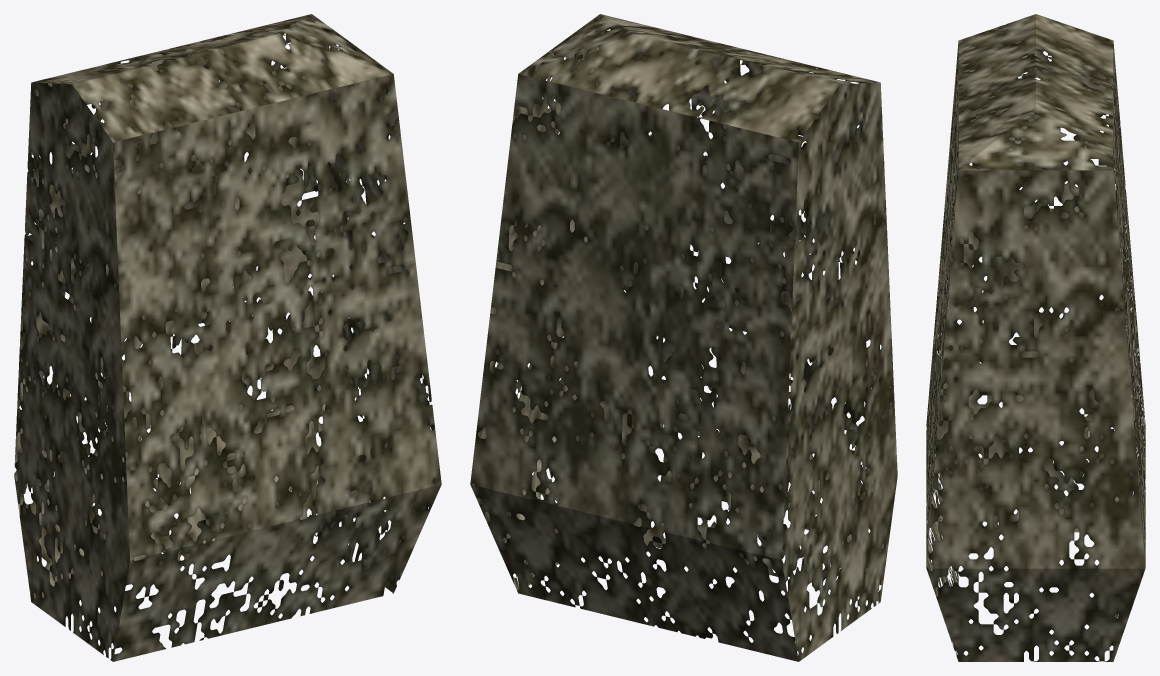
The model's file is bush_tall_half_open_right_dead.fbx.
The picture shows the model from 3 angles, left to right: view 1: azimuth 30°, elevation 25°; view 2: azimuth 150°, elevation 25°; view 3: azimuth 270°, elevation 25°; orthographic projection. The views are drawn at different scales.
Parts seen in each view (by area): view 1: bush_tall_half_open_right_dead; view 2: bush_tall_half_open_right_dead; view 3: bush_tall_half_open_right_dead.
Boxes of the visible parts, box(x1,y1,x2,y2) form: bush_tall_half_open_right_dead: box(14, 14, 441, 661); bush_tall_half_open_right_dead: box(470, 14, 897, 661); bush_tall_half_open_right_dead: box(926, 14, 1145, 661).
Bounding box in the file's own units: 112 × 188 × 71.91.
1 material, 1 textured.
